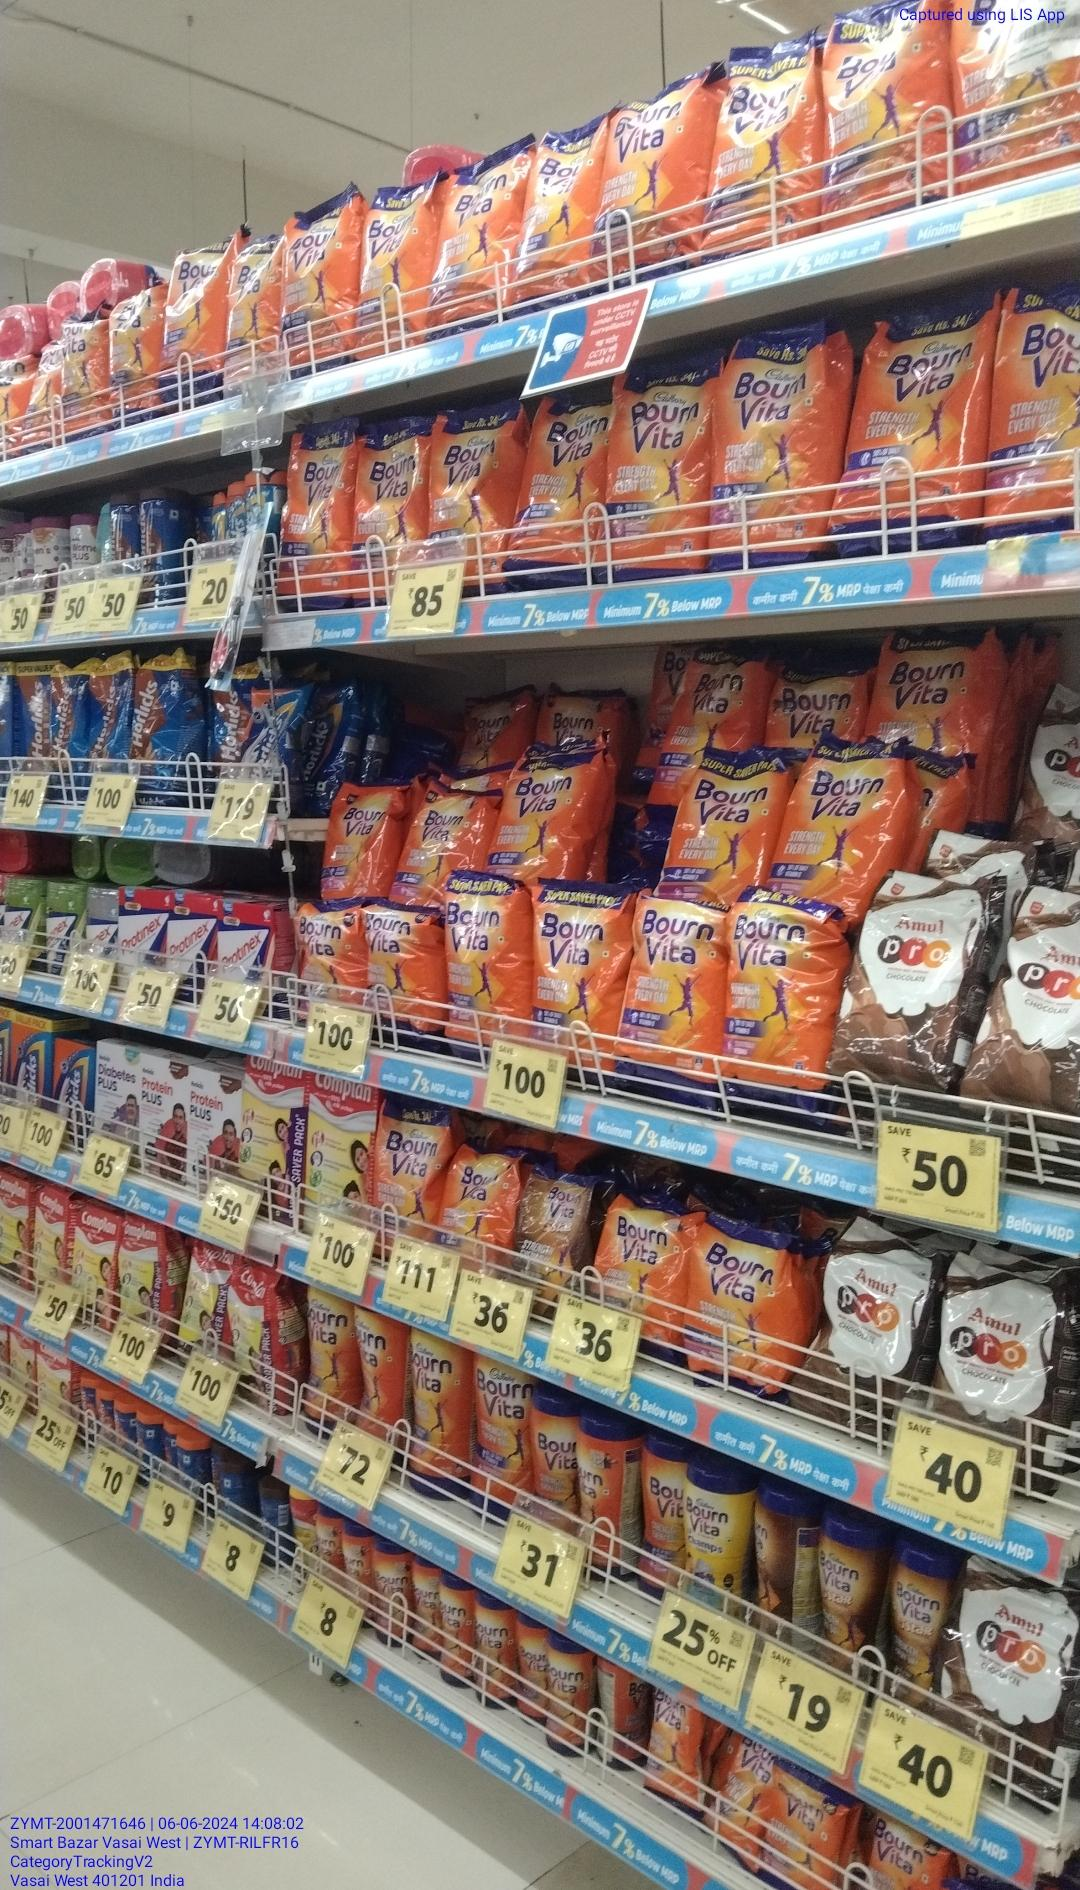BOURN_VITA_CHAMPS_500_G_JAR: (679, 1446, 746, 1630)
BOURN_VITA_FIVE_STAR_MAGIC_500_G_JAR: (816, 1504, 877, 1687), (889, 1541, 945, 1704)
BOURN_VITA_FIVE_STAR_MAGIC_500_G_POUCH: (508, 1160, 597, 1325)
HORLICK_CLASSIC_MALT_500_G_PACK: (53, 1036, 93, 1147)
PROTINEX_ORIGINAL_400_G_JAR: (86, 887, 117, 977)
